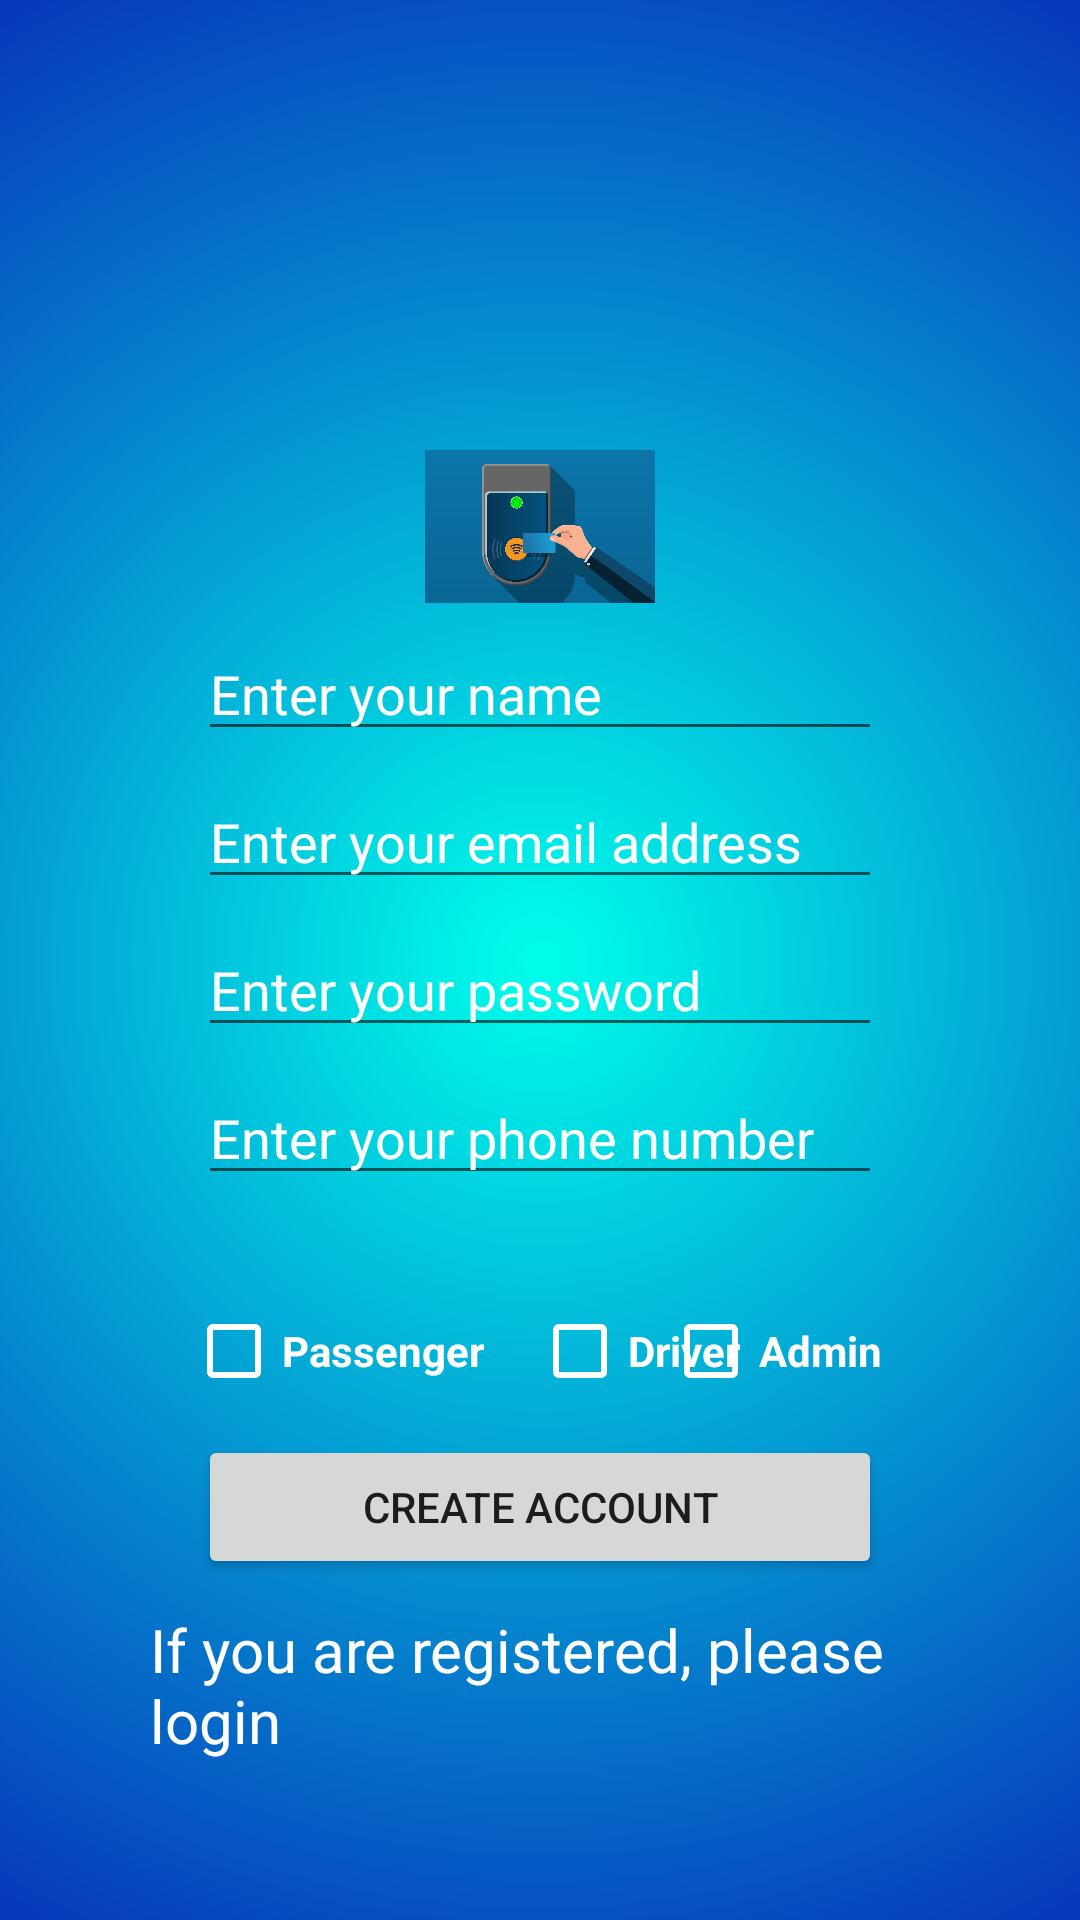

Named icons in this screenshot (1080 × 1920) and their bounding boxes, (x1, y1, x2, y2):
card: (417, 450, 663, 603)
